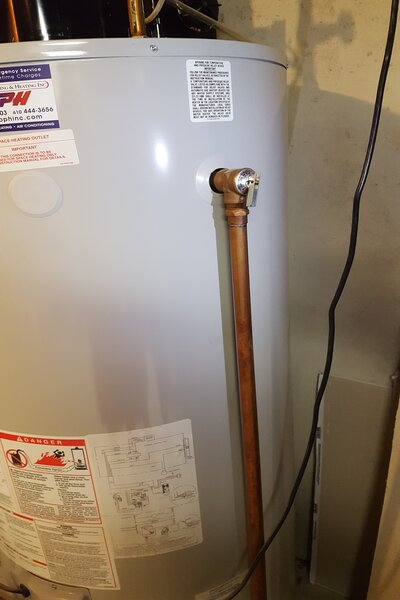valve: (209, 164, 266, 234)
